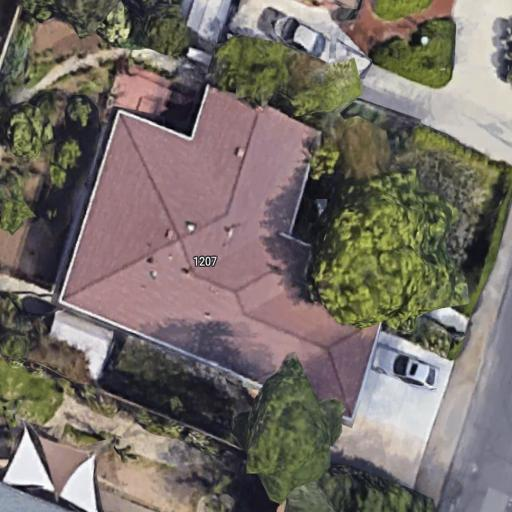Slope-Roof: (54, 87, 393, 423)
